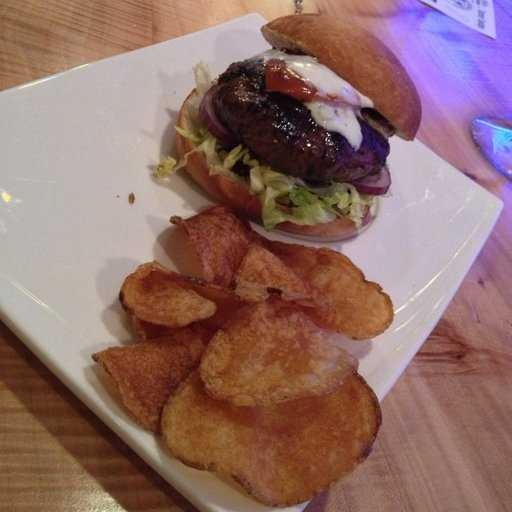hamburger: (145, 5, 416, 243)
